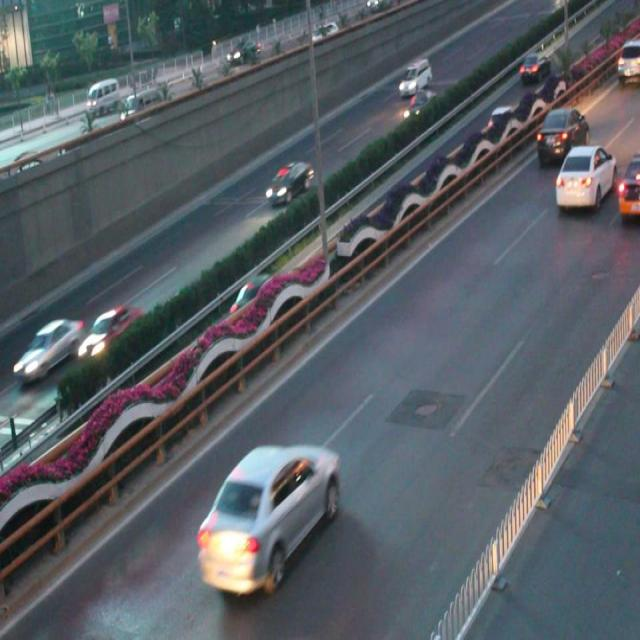car: (199, 441, 342, 598), (555, 142, 616, 210), (20, 316, 83, 380), (80, 306, 143, 367), (536, 110, 585, 163), (264, 158, 314, 208), (230, 275, 278, 319), (616, 151, 640, 212), (402, 88, 436, 122)
truck: (398, 59, 431, 94)
